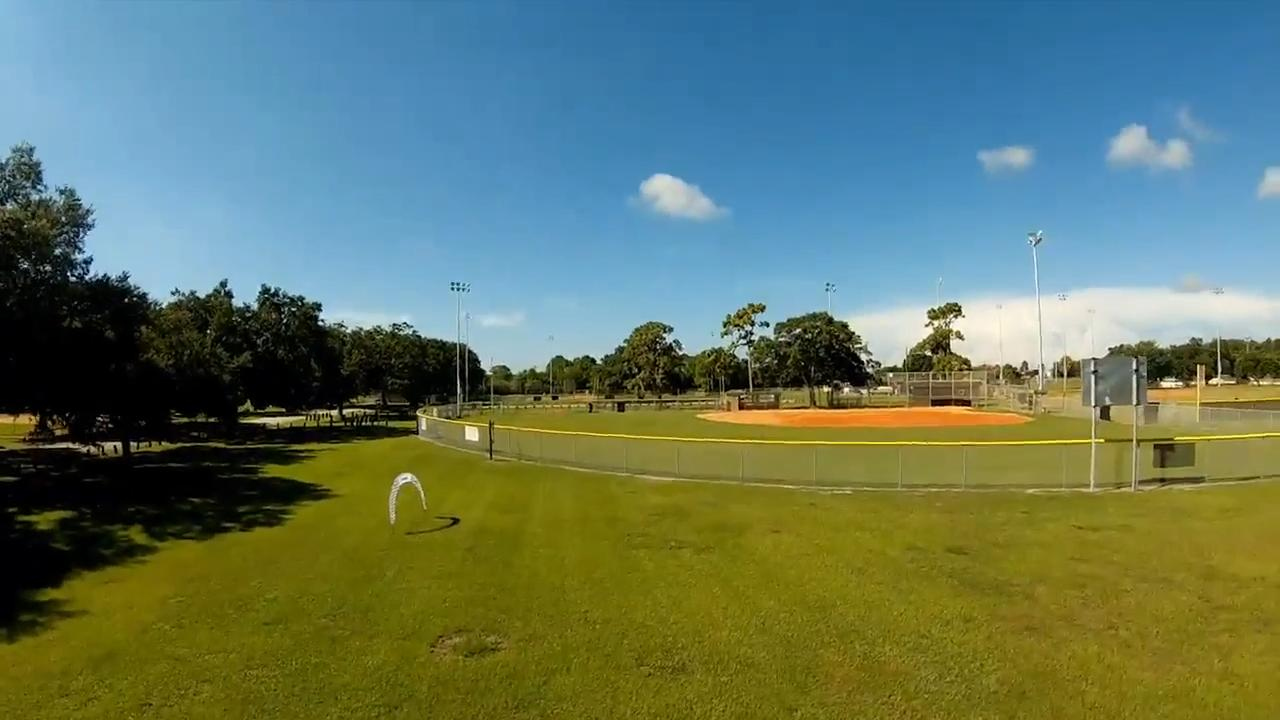gate: (387, 469, 431, 523)
